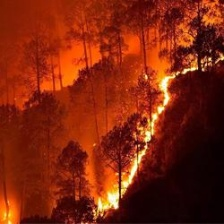fire: (91, 155, 140, 211), (149, 71, 170, 149)
